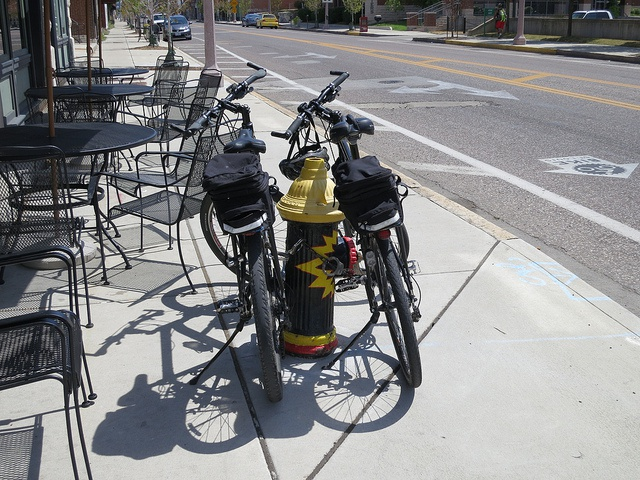non-vehicle: (272, 66, 423, 389), (185, 58, 300, 401)
